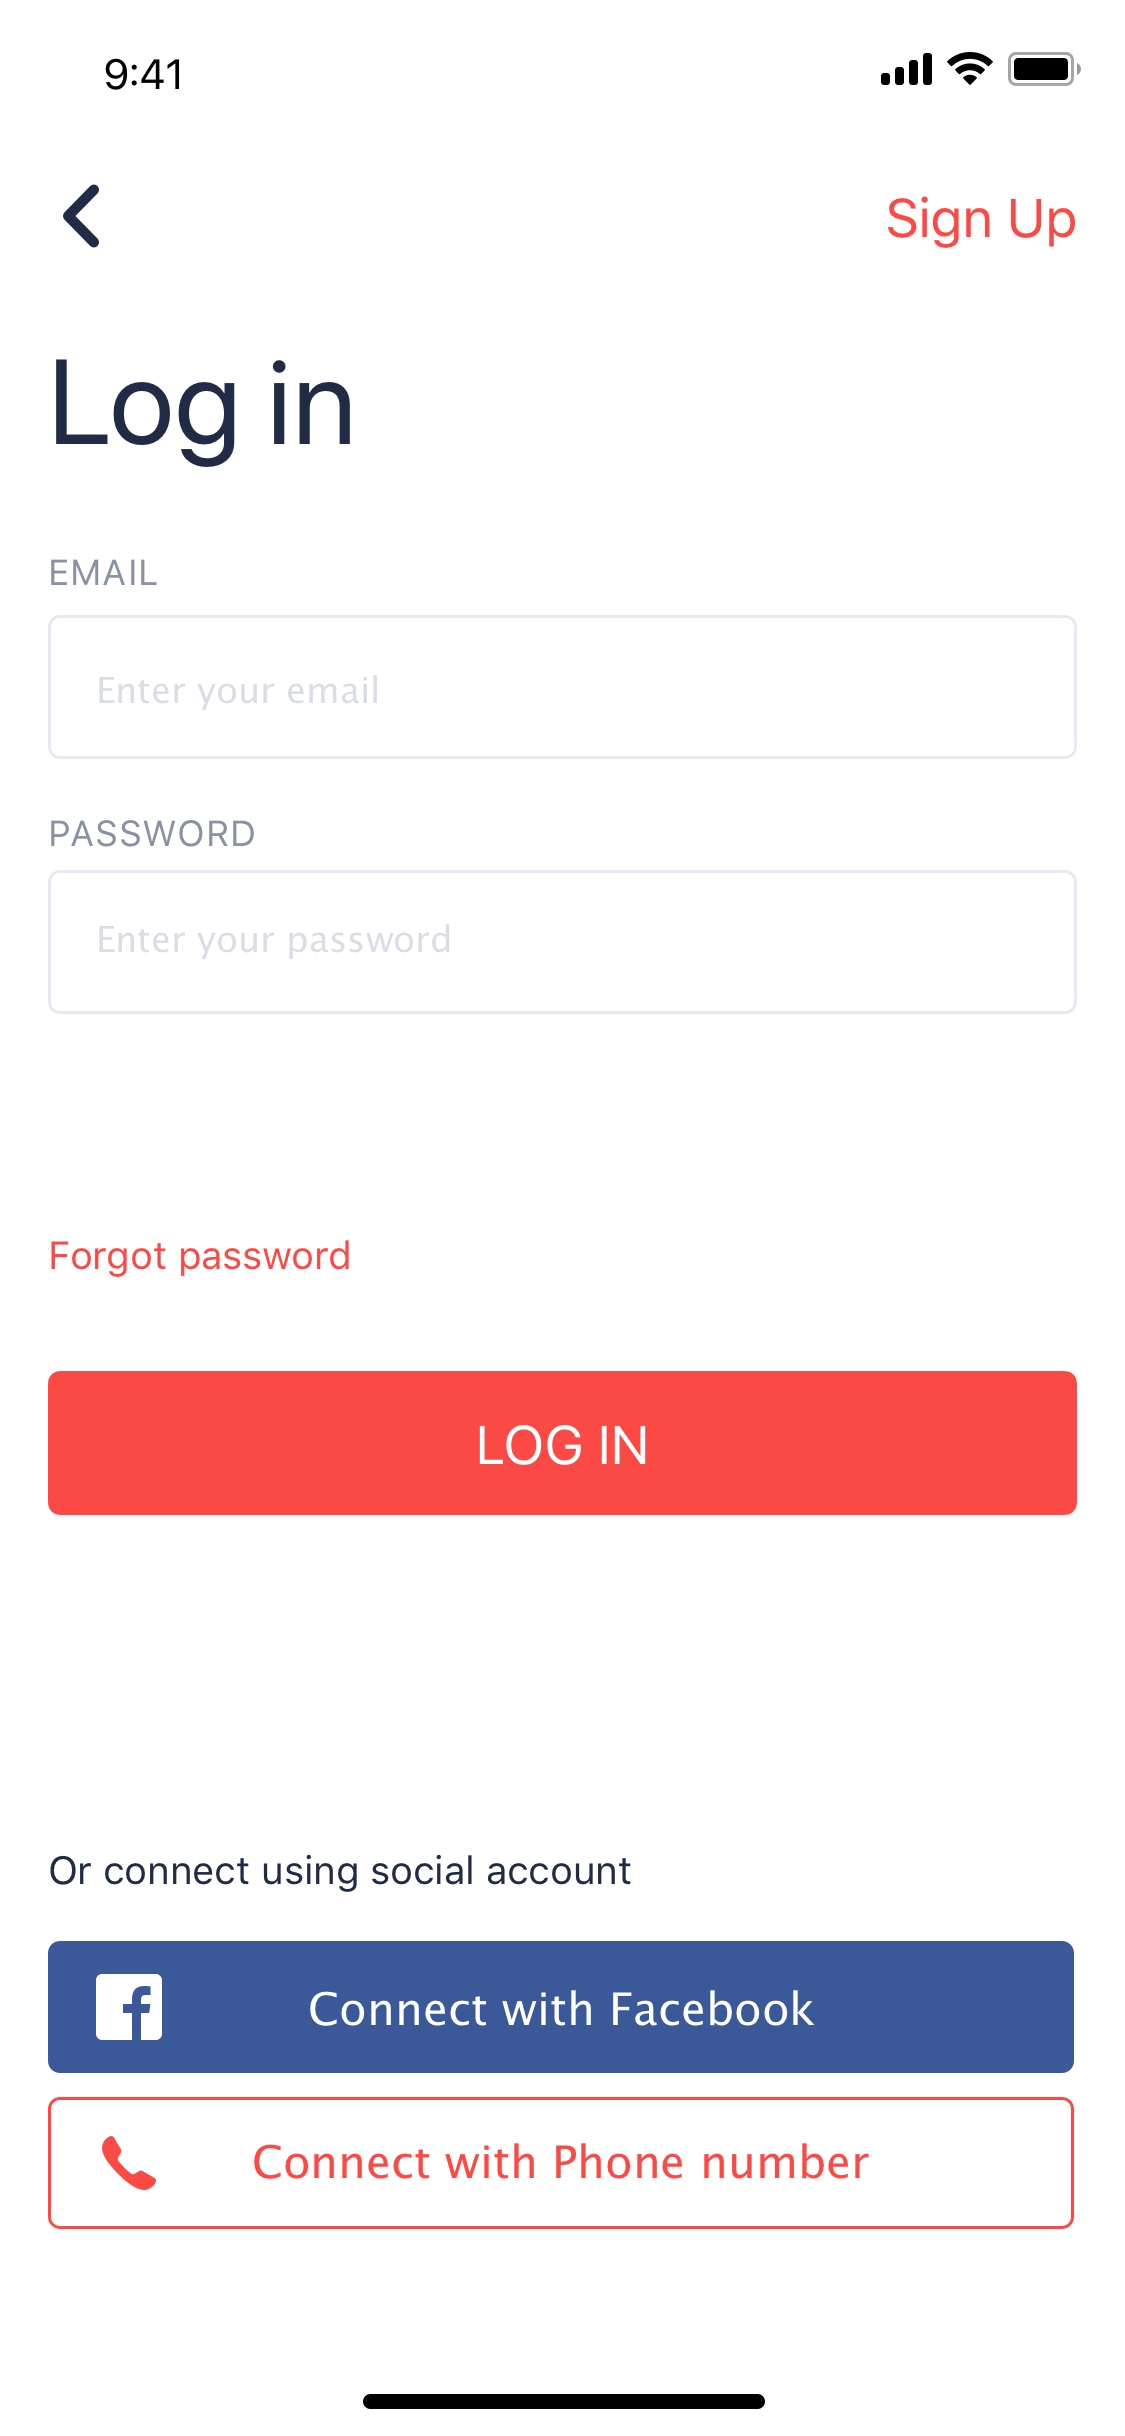EditText: (48, 615, 1078, 760), (50, 870, 1078, 1014)
Icon: (64, 183, 101, 250)
Text: (56, 359, 353, 469), (50, 1853, 632, 1892), (99, 924, 451, 960), (51, 1240, 351, 1279), (99, 674, 378, 712), (887, 196, 1075, 250), (51, 820, 255, 848), (51, 559, 158, 586)
TextButton: (50, 1370, 1078, 1516), (50, 2096, 1075, 2229), (50, 1940, 1075, 2072)
UpperTaskBar: (106, 51, 1081, 92)
